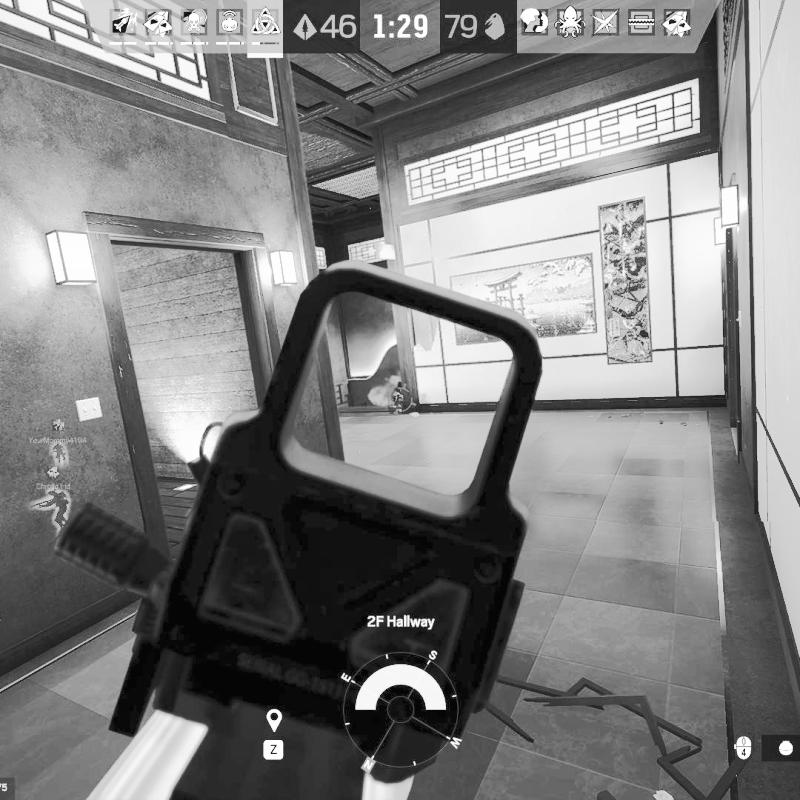Character: (389, 380, 404, 411)
Friend_label: (27, 418, 90, 444), (36, 465, 73, 491)
Head: (396, 380, 403, 388)
